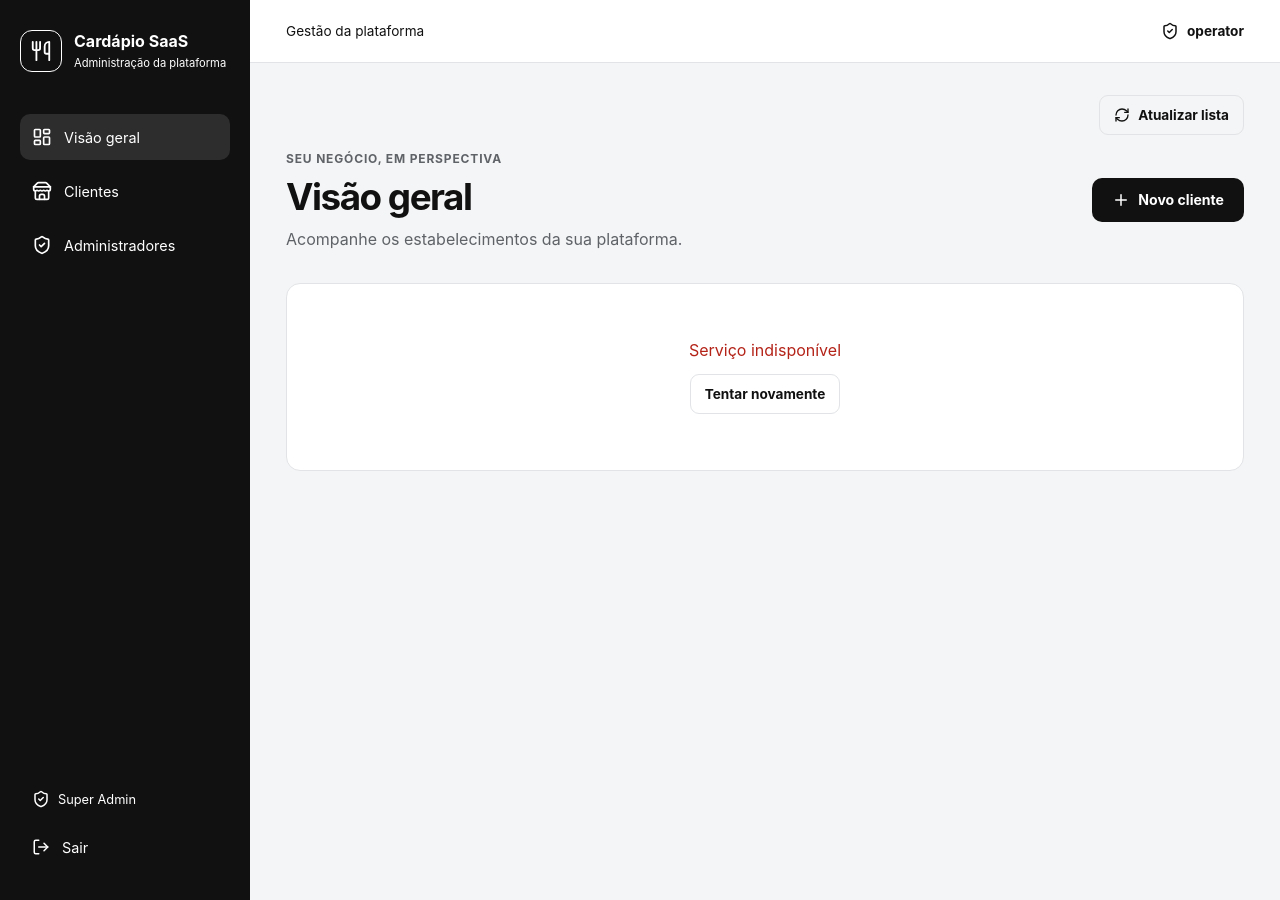
Test: platform management › shows load errors and successfully retries
Expected: the message reads "Serviço indisponível", [689,340,841,360]
Click the button "Tentar novamente" at (765, 394), box [690,374,840,414]
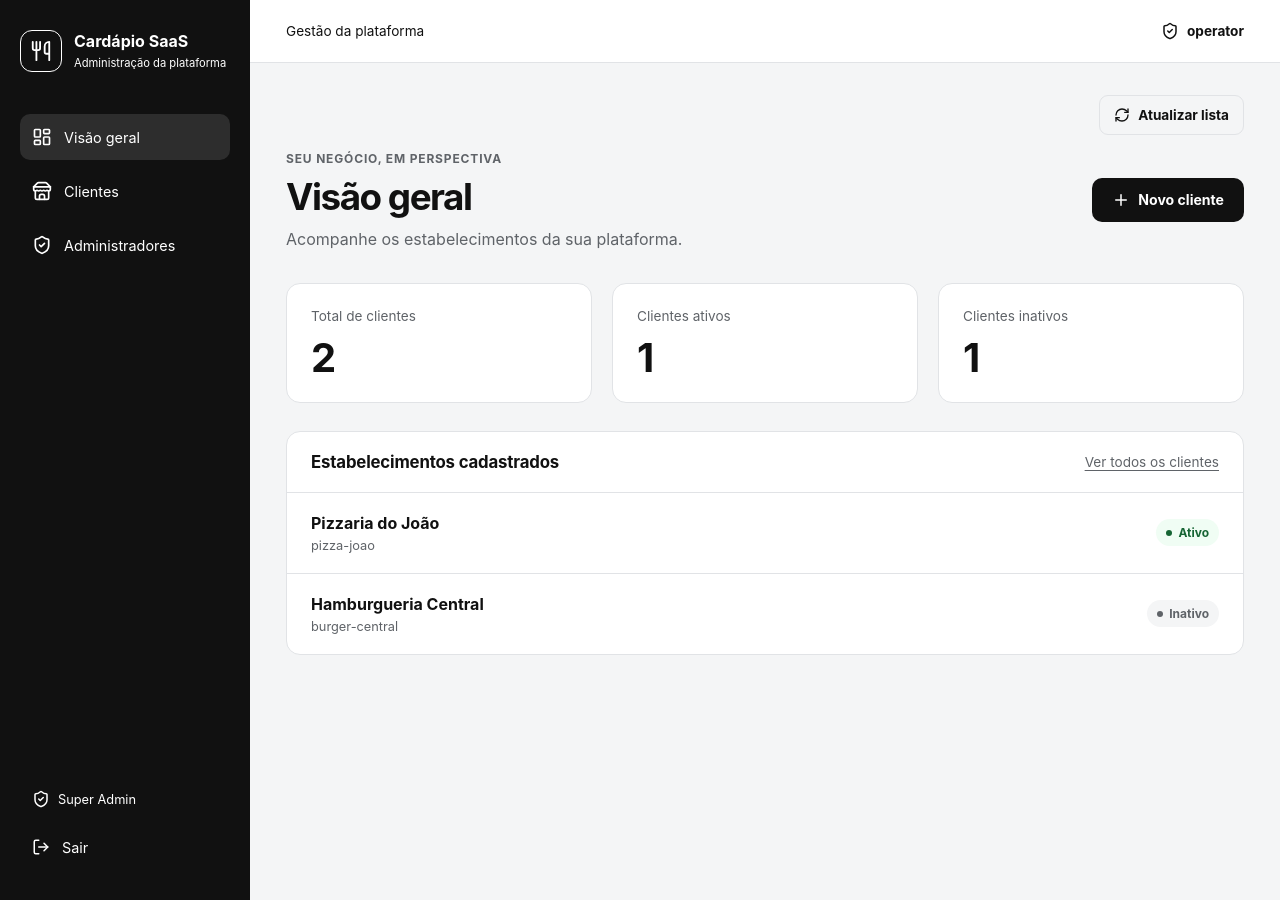
Now the text "Pizzaria do João" is shown, box [311,513,439,533]
Now the message "Serviço indisponível" is gone
